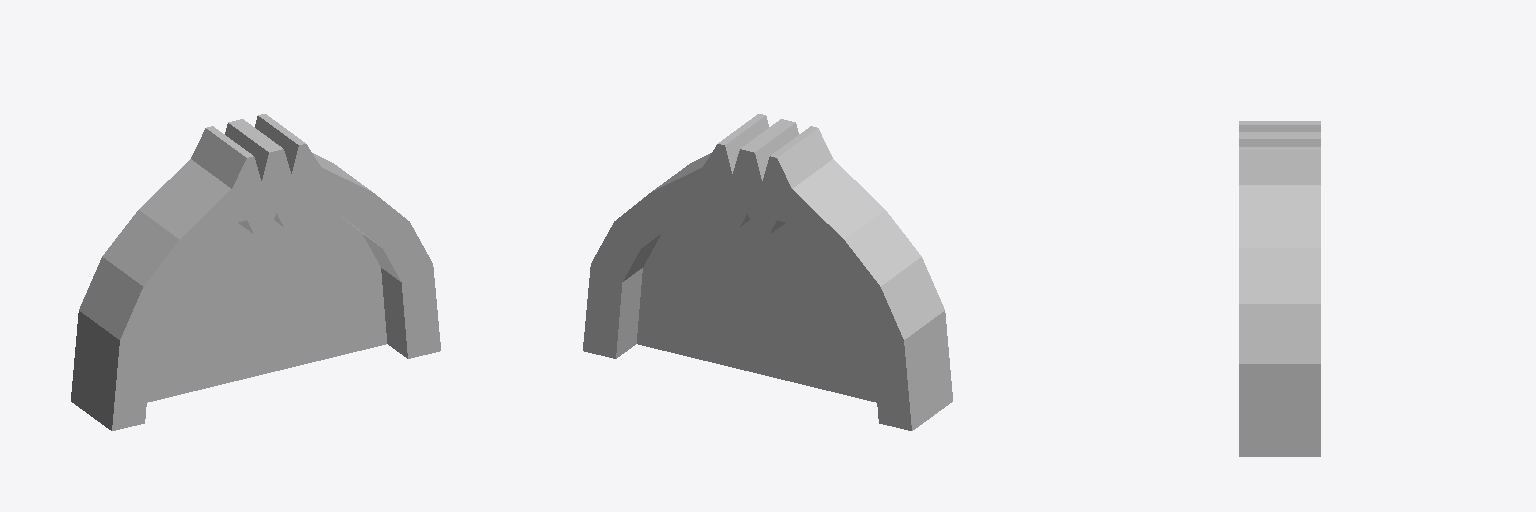
The model's file is O_Portal_a.obj.
3 views of the same model, side by side, from view 1: azimuth 30°, elevation 25°; view 2: azimuth 150°, elevation 25°; view 3: azimuth 270°, elevation 25° (orthographic).
Visible parts, largest first — view 1: default; view 2: default; view 3: default.
Boxes of the visible parts, <box> form: default: <box>71,114,440,430</box>; default: <box>583,114,952,430</box>; default: <box>1239,121,1320,456</box>.
Size of the model in its own units: 443 by 309 by 96.08.